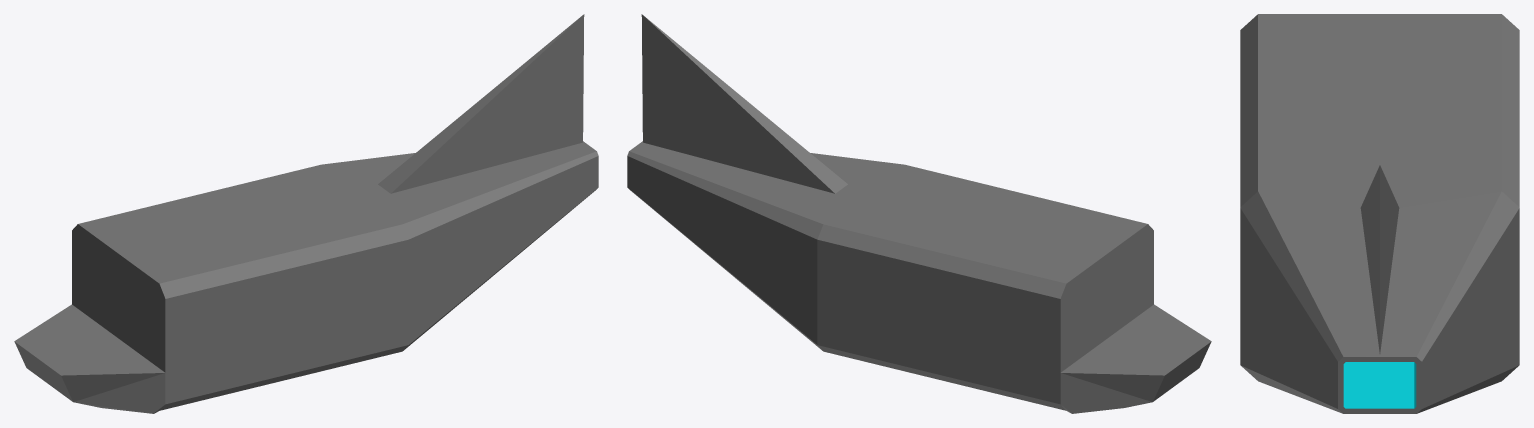
Rendered from Body.fbx.
3 renders of one model, left to right at view 1: azimuth 30°, elevation 25°; view 2: azimuth 150°, elevation 25°; view 3: azimuth 270°, elevation 25°, orthographic. The views are drawn at different scales.
Visible parts, largest first — view 1: ShipBase1; view 2: ShipBase1; view 3: ShipBase1.
Boxes of the visible parts, <box> form: ShipBase1: <box>14,14,598,413</box>; ShipBase1: <box>627,14,1211,413</box>; ShipBase1: <box>1240,14,1519,413</box>.
Size of the model in its own units: 1350 by 598 by 400.
